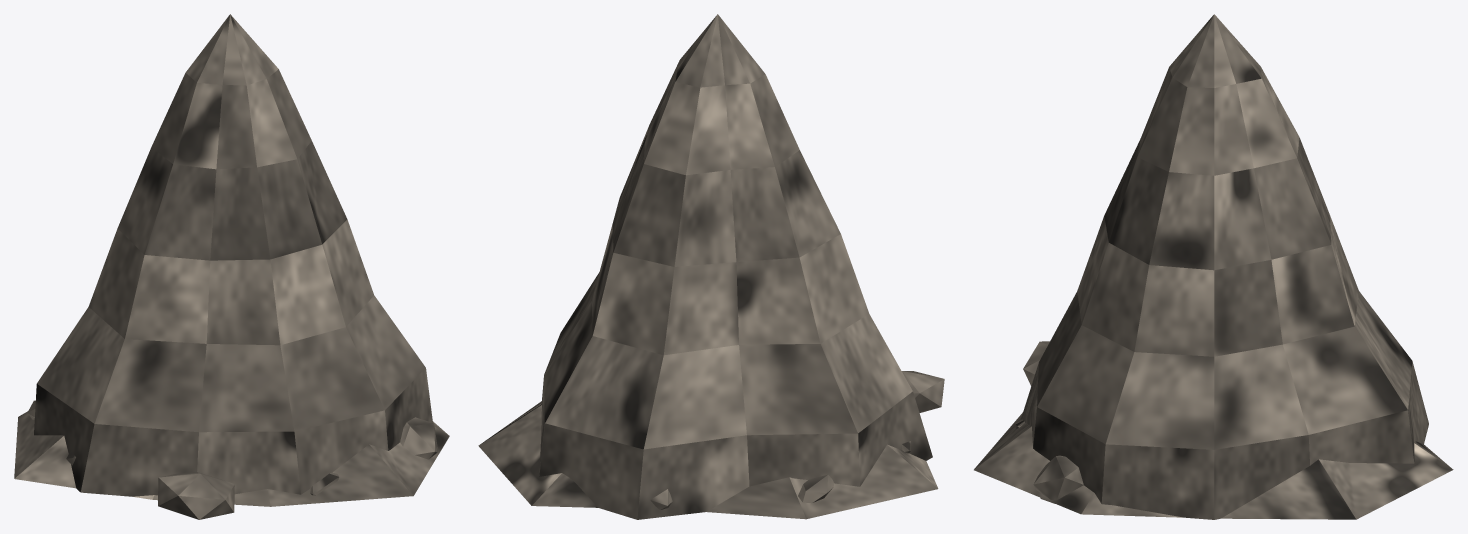
The model's file is MountainC.fbx.
3 renders of one model, left to right at view 1: azimuth 30°, elevation 25°; view 2: azimuth 150°, elevation 25°; view 3: azimuth 270°, elevation 25°, orthographic. The views are drawn at different scales.
Visible parts, largest first — view 1: MountainC_Peak, MountainC_Skirt, MountainC_Boulder_02, MountainC_Boulder_04; view 2: MountainC_Peak, MountainC_Skirt, MountainC_Boulder_02, MountainC_Boulder_05; view 3: MountainC_Peak, MountainC_Skirt, MountainC_Boulder_04.
Boxes of the visible parts, x1,y1,x2,y2 form: MountainC_Peak: [34, 14, 432, 496]; MountainC_Skirt: [14, 411, 449, 506]; MountainC_Boulder_02: [158, 472, 234, 519]; MountainC_Boulder_04: [400, 417, 437, 459]; MountainC_Peak: [539, 14, 932, 519]; MountainC_Skirt: [478, 401, 938, 519]; MountainC_Boulder_02: [902, 371, 944, 412]; MountainC_Boulder_05: [798, 474, 833, 503]; MountainC_Peak: [1021, 14, 1428, 519]; MountainC_Skirt: [974, 412, 1453, 519]; MountainC_Boulder_04: [1033, 455, 1083, 503].
Bounding box in the file's own units: 6.78 × 7.2 × 7.2.
